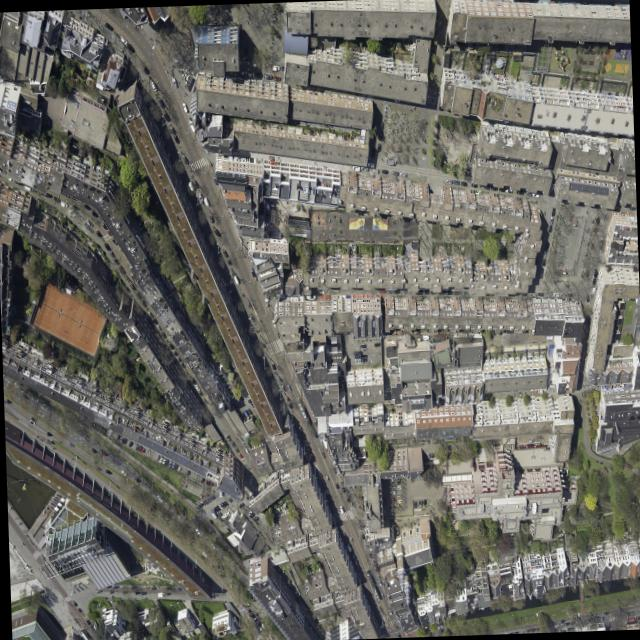large-vehicle: (295, 394, 316, 439), (364, 567, 380, 600), (78, 625, 91, 640)
small-vehicle: (187, 118, 195, 131), (125, 41, 134, 52), (103, 20, 112, 31), (149, 79, 157, 91), (186, 179, 194, 191), (118, 34, 127, 44), (22, 182, 32, 191), (162, 110, 169, 122), (385, 156, 395, 164), (212, 226, 220, 236), (84, 217, 92, 227), (248, 265, 255, 276), (202, 196, 209, 207), (180, 100, 187, 111), (141, 63, 148, 74), (400, 96, 409, 104), (290, 203, 299, 211), (14, 177, 23, 185), (117, 264, 124, 274), (110, 235, 117, 245), (232, 273, 238, 284), (157, 97, 163, 108), (181, 153, 187, 164), (59, 199, 67, 207), (6, 173, 14, 181), (155, 492, 162, 501), (262, 72, 271, 79), (128, 281, 135, 290), (82, 201, 89, 210), (94, 228, 101, 237), (103, 241, 110, 250), (71, 202, 78, 211), (191, 178, 197, 188), (168, 124, 174, 134), (172, 133, 178, 143), (272, 74, 280, 81), (90, 209, 97, 217), (52, 194, 59, 202), (43, 191, 51, 198), (100, 221, 107, 229), (59, 424, 66, 432), (594, 214, 599, 225), (338, 504, 344, 513), (159, 329, 165, 338), (221, 248, 227, 257), (171, 77, 177, 86), (211, 175, 217, 184), (134, 290, 140, 299), (208, 213, 213, 223), (533, 255, 538, 265), (550, 206, 555, 216), (628, 203, 635, 210), (260, 219, 267, 226), (271, 63, 278, 70), (279, 64, 286, 71), (156, 512, 163, 519), (150, 504, 157, 511), (421, 333, 429, 339), (398, 170, 406, 176), (351, 164, 359, 170), (242, 408, 248, 416), (245, 406, 251, 414), (189, 376, 195, 384), (155, 323, 161, 331), (167, 341, 173, 349), (224, 523, 230, 531), (151, 316, 157, 324), (146, 310, 152, 318), (112, 256, 118, 264), (108, 249, 114, 257), (308, 450, 313, 459), (197, 191, 202, 200), (558, 290, 565, 296), (444, 177, 451, 183), (451, 178, 458, 184), (466, 171, 473, 177), (437, 104, 444, 110), (392, 96, 399, 102), (209, 541, 215, 548), (318, 287, 325, 293), (359, 352, 366, 358), (346, 88, 353, 94), (258, 625, 264, 632), (259, 621, 265, 628), (201, 549, 207, 556), (251, 60, 258, 66), (260, 61, 267, 67), (281, 76, 288, 82), (248, 511, 254, 518), (252, 514, 258, 521), (299, 431, 305, 438), (171, 349, 177, 356), (193, 383, 199, 390), (194, 527, 200, 534), (233, 445, 239, 452), (139, 299, 145, 306), (204, 496, 210, 503), (105, 84, 112, 90), (157, 509, 163, 516), (104, 467, 110, 474), (20, 392, 26, 399), (133, 475, 139, 482), (100, 449, 106, 456), (37, 188, 43, 195), (81, 435, 87, 442), (105, 228, 111, 235), (515, 188, 522, 194), (531, 190, 538, 196), (504, 186, 511, 192), (497, 185, 504, 191), (489, 184, 496, 190), (592, 268, 597, 276), (414, 289, 422, 294), (359, 165, 367, 170), (387, 607, 392, 615), (352, 349, 360, 354), (370, 147, 374, 157), (378, 120, 382, 130), (269, 219, 277, 224), (285, 383, 290, 391), (312, 418, 317, 426), (320, 450, 325, 458), (237, 395, 242, 403), (240, 410, 245, 418), (46, 117, 50, 127), (584, 267, 588, 276), (459, 179, 465, 185), (198, 552, 204, 558), (376, 142, 380, 151), (377, 131, 381, 140), (246, 396, 252, 402), (255, 71, 261, 77), (246, 509, 252, 515), (228, 578, 234, 584), (217, 572, 223, 578), (219, 501, 225, 507), (237, 501, 243, 507), (470, 181, 476, 187), (206, 494, 212, 500), (147, 506, 153, 512), (94, 464, 100, 470), (28, 418, 34, 424), (45, 430, 51, 436), (67, 441, 73, 447), (35, 398, 41, 404), (542, 249, 546, 258), (544, 241, 548, 250), (482, 183, 488, 189), (592, 225, 597, 232), (429, 289, 436, 294), (437, 289, 444, 294), (444, 289, 451, 294), (452, 289, 459, 294), (379, 591, 384, 598), (515, 119, 522, 124), (392, 288, 399, 293), (366, 161, 373, 166), (380, 168, 387, 173), (312, 83, 319, 88), (332, 466, 337, 473), (270, 362, 275, 369), (275, 375, 280, 382), (287, 401, 292, 408), (239, 69, 246, 74), (246, 70, 253, 75), (297, 424, 302, 431), (245, 494, 250, 501), (185, 630, 190, 637), (179, 361, 184, 368), (175, 355, 180, 362), (225, 257, 230, 264), (156, 591, 163, 596), (91, 457, 96, 464), (5, 397, 10, 404), (157, 455, 162, 462), (154, 453, 159, 460), (136, 444, 141, 451), (121, 436, 126, 443), (120, 468, 125, 475), (524, 190, 531, 195), (584, 293, 588, 301), (589, 241, 593, 249), (598, 236, 602, 244), (591, 276, 595, 284), (303, 438, 307, 446), (167, 459, 171, 467), (170, 460, 174, 468), (541, 257, 545, 265), (547, 223, 551, 231), (548, 215, 552, 223), (423, 289, 429, 294), (460, 289, 466, 294), (373, 341, 379, 346), (322, 84, 328, 89), (267, 633, 272, 639), (354, 90, 360, 95), (249, 611, 254, 617), (242, 59, 248, 64), (323, 487, 328, 493), (244, 447, 249, 453), (190, 629, 195, 635), (208, 562, 213, 568), (245, 599, 250, 605), (30, 415, 35, 421), (160, 457, 165, 463), (197, 389, 202, 395), (171, 521, 176, 527), (183, 522, 188, 528), (199, 499, 204, 505), (214, 504, 219, 510), (227, 496, 232, 502), (229, 440, 234, 446), (237, 452, 242, 458), (212, 506, 217, 512), (202, 498, 207, 504), (222, 499, 227, 505), (163, 519, 168, 525), (90, 446, 95, 452), (187, 541, 192, 547), (84, 618, 89, 624), (508, 118, 514, 123), (527, 437, 533, 442), (377, 578, 381, 585), (353, 357, 360, 361), (378, 288, 385, 292), (340, 485, 344, 492), (280, 384, 284, 391), (276, 330, 280, 337), (199, 476, 203, 483), (163, 458, 167, 465), (390, 170, 397, 174), (140, 446, 144, 453), (133, 443, 137, 450), (118, 435, 122, 442), (115, 433, 119, 440), (88, 622, 92, 629), (551, 291, 558, 295), (372, 167, 377, 172), (397, 497, 402, 502), (264, 635, 269, 640), (252, 617, 257, 622), (181, 633, 186, 638), (242, 602, 247, 607), (197, 502, 202, 507), (217, 503, 222, 508), (209, 493, 214, 498), (553, 622, 558, 627), (586, 616, 592, 620), (593, 615, 599, 619), (606, 622, 610, 628), (400, 289, 406, 293), (467, 290, 473, 294), (341, 530, 345, 536), (367, 551, 371, 557), (358, 342, 364, 346), (331, 86, 337, 90), (334, 482, 338, 488), (356, 523, 360, 529), (324, 474, 328, 480), (389, 485, 395, 489), (320, 478, 324, 484), (310, 455, 314, 461), (215, 563, 219, 569), (202, 478, 206, 484), (205, 479, 209, 485), (208, 481, 212, 487), (129, 584, 135, 588), (173, 508, 177, 514), (176, 465, 180, 471), (185, 469, 189, 475), (150, 585, 156, 589), (256, 620, 260, 626), (127, 440, 131, 446), (76, 606, 80, 612), (72, 600, 76, 606), (536, 291, 542, 295), (563, 621, 569, 625), (586, 317, 589, 324), (426, 451, 429, 458), (345, 495, 348, 502), (574, 619, 579, 623), (603, 610, 608, 614), (566, 292, 571, 296), (393, 623, 397, 628), (353, 559, 357, 564), (348, 536, 352, 541), (345, 615, 349, 620), (353, 354, 358, 358), (396, 632, 400, 637), (361, 357, 366, 361), (386, 288, 391, 292), (360, 346, 365, 350), (328, 499, 332, 504), (396, 484, 401, 488), (390, 498, 395, 502), (396, 493, 401, 497), (389, 489, 394, 493), (395, 479, 400, 483), (253, 611, 257, 616), (176, 586, 181, 590), (179, 634, 183, 639), (228, 583, 232, 588), (246, 607, 250, 612), (239, 597, 243, 602), (140, 590, 145, 594), (95, 588, 100, 592), (569, 620, 574, 624), (165, 585, 170, 589), (121, 589, 126, 593), (545, 291, 550, 295), (530, 627, 535, 631), (559, 618, 564, 622), (422, 498, 425, 504), (380, 619, 383, 625), (337, 520, 340, 526), (285, 395, 288, 401), (133, 590, 139, 593), (525, 628, 529, 632), (380, 631, 383, 636), (351, 553, 354, 558), (360, 533, 363, 538), (326, 493, 329, 498), (105, 584, 110, 587), (119, 584, 124, 587), (112, 584, 117, 587), (108, 589, 112, 592), (165, 591, 169, 594), (559, 622, 563, 625), (416, 499, 418, 504), (419, 499, 421, 504), (413, 500, 415, 505), (430, 452, 432, 457)
